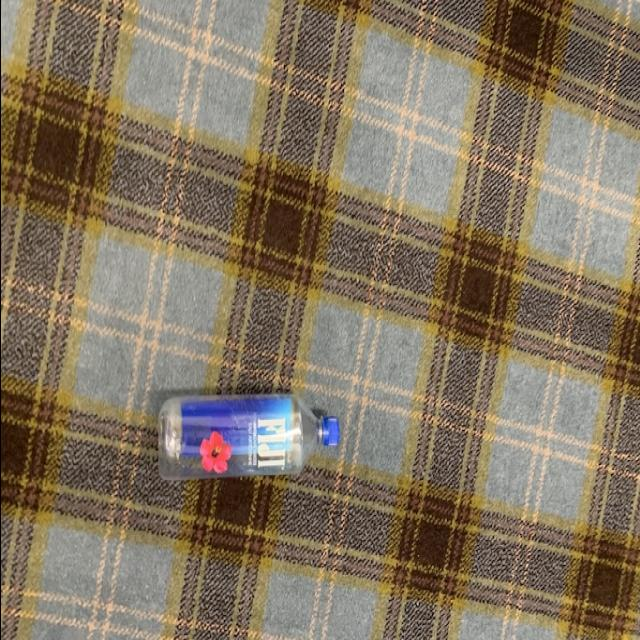PET: (156, 396, 338, 486)
